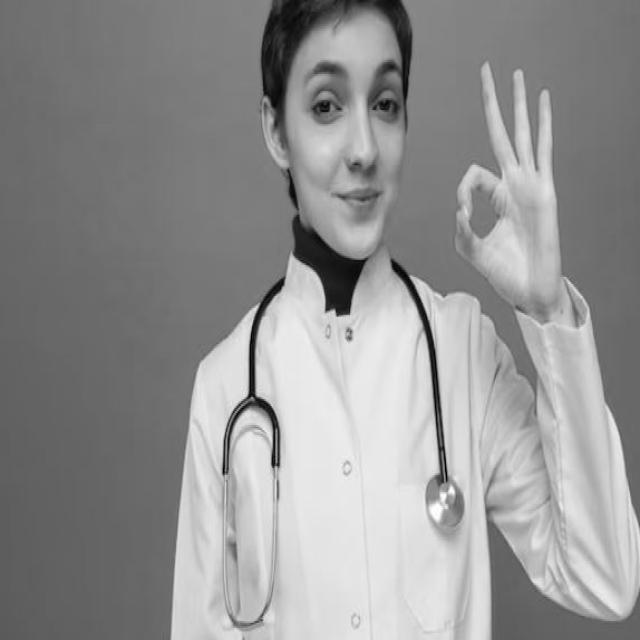perfect: (449, 57, 566, 306)
